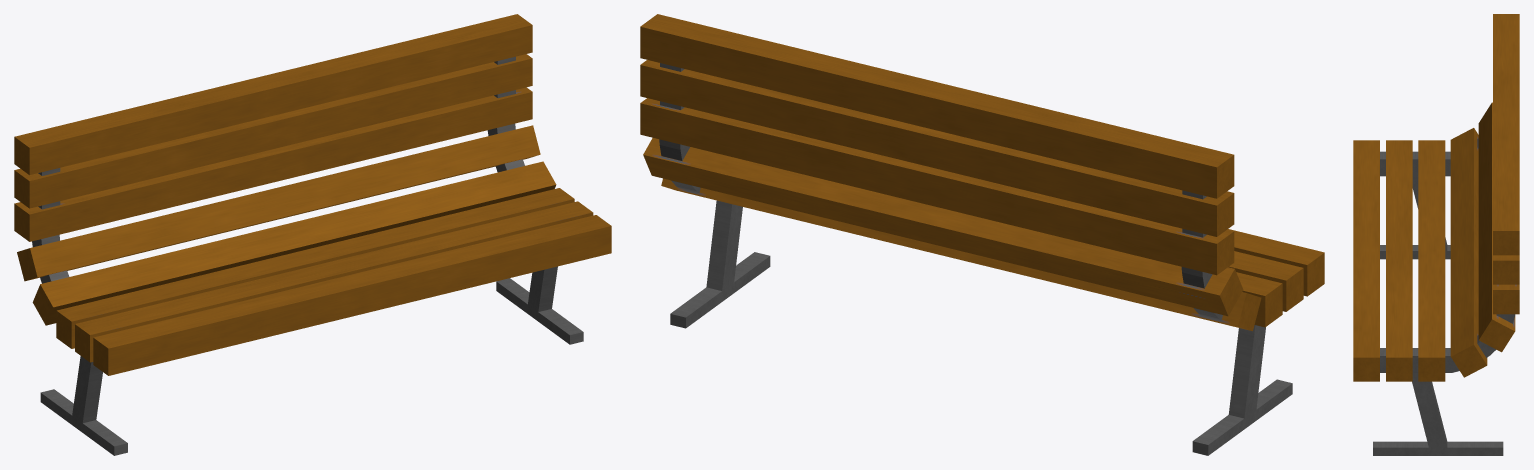
File: street_bench.fbx
3 renders of one model, left to right at view 1: azimuth 30°, elevation 25°; view 2: azimuth 150°, elevation 25°; view 3: azimuth 270°, elevation 25°, orthographic. The views are drawn at different scales.
Visible parts, largest first — view 1: bake; view 2: bake; view 3: bake.
Boxes of the visible parts, left/top/right/bottom form: bake: left=14, top=14, right=611, bottom=455; bake: left=640, top=14, right=1324, bottom=455; bake: left=1353, top=14, right=1519, bottom=455.
Bounding box in the file's own units: 221 × 110 × 71.5.
Materials: 1 (1 with a texture image).
